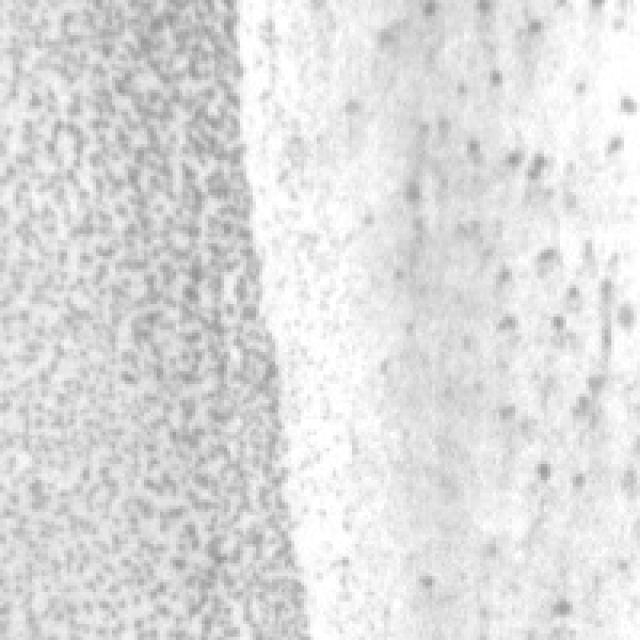pitted_surface: (3, 0, 304, 627), (410, 0, 637, 614)
